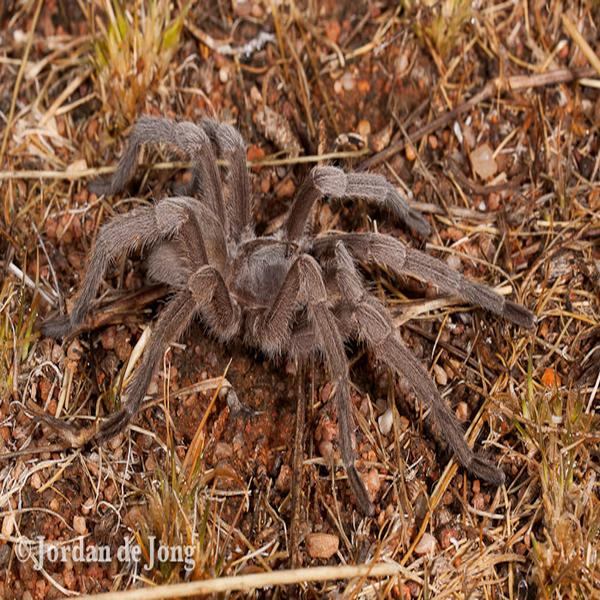Tarantula_Spider: (41, 118, 536, 520)
